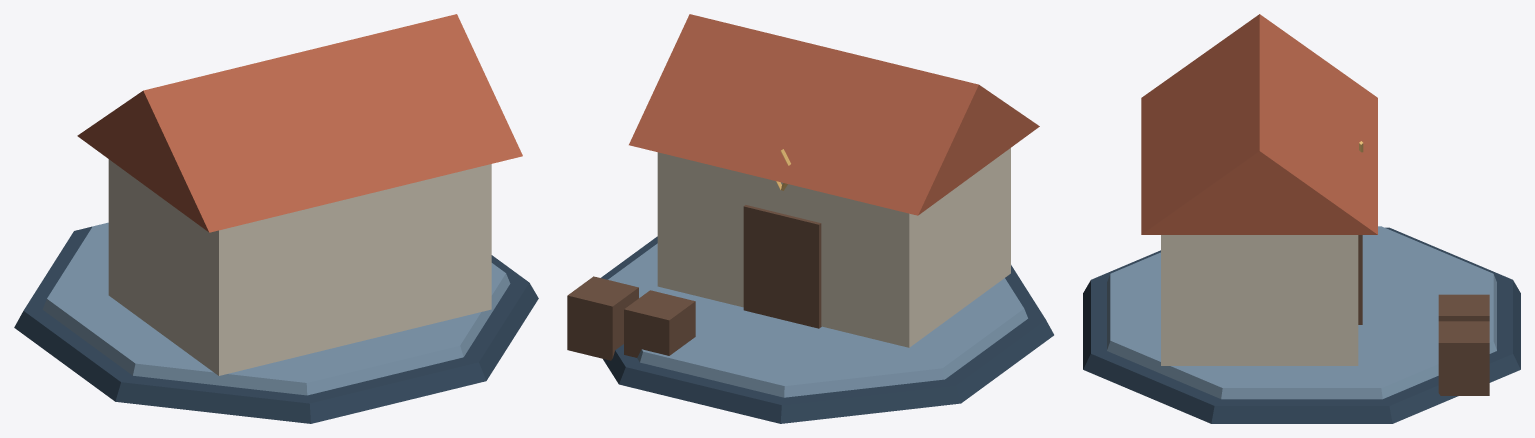
File: Warehouse_1.fbx
3 views of the same model, side by side, from view 1: azimuth 30°, elevation 25°; view 2: azimuth 150°, elevation 25°; view 3: azimuth 270°, elevation 25° (orthographic). The views are drawn at different scales.
Visible parts, largest first — view 1: Warehouse_1; view 2: Warehouse_1; view 3: Warehouse_1.
Boxes of the visible parts, x1,y1,x2,y2 form: Warehouse_1: (14,14,538,423); Warehouse_1: (567,14,1053,423); Warehouse_1: (1083,14,1520,423).
Bounding box in the file's own units: 2.9 × 1.82 × 2.9.
